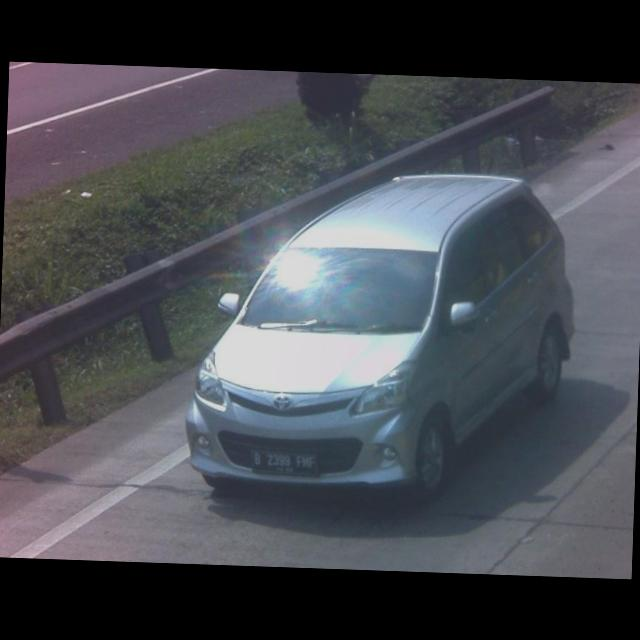plate: (250, 449, 318, 477)
